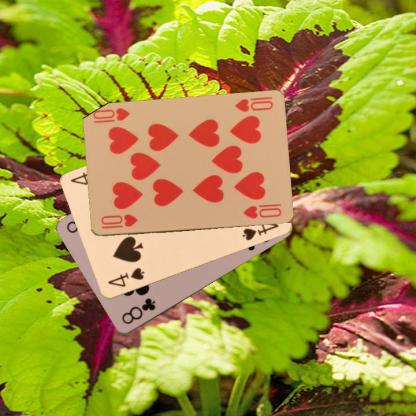10h: (98, 211, 139, 230), (232, 96, 274, 114)
4s: (105, 265, 146, 289)
8c: (119, 295, 157, 326)
